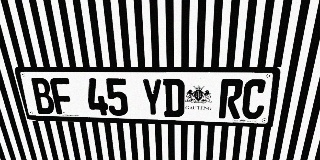4: (84, 78, 109, 115)
5: (105, 78, 129, 116)
B: (29, 78, 56, 114)
C: (241, 79, 268, 119)
D: (163, 79, 185, 117)
F: (49, 78, 75, 115)
R: (219, 79, 244, 119)
Y: (141, 78, 163, 117)
